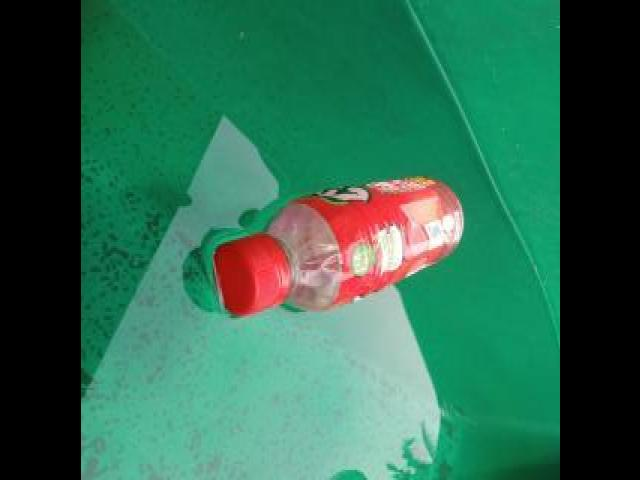Bottle: (208, 170, 468, 326)
